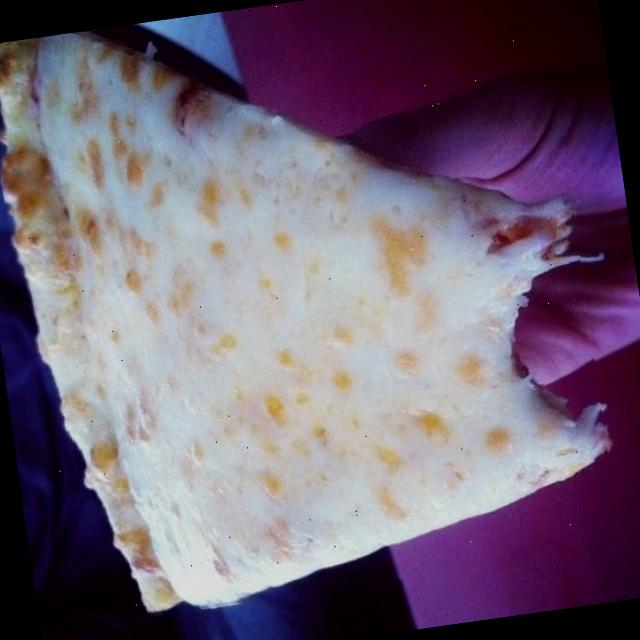pizza: (0, 33, 607, 611)
